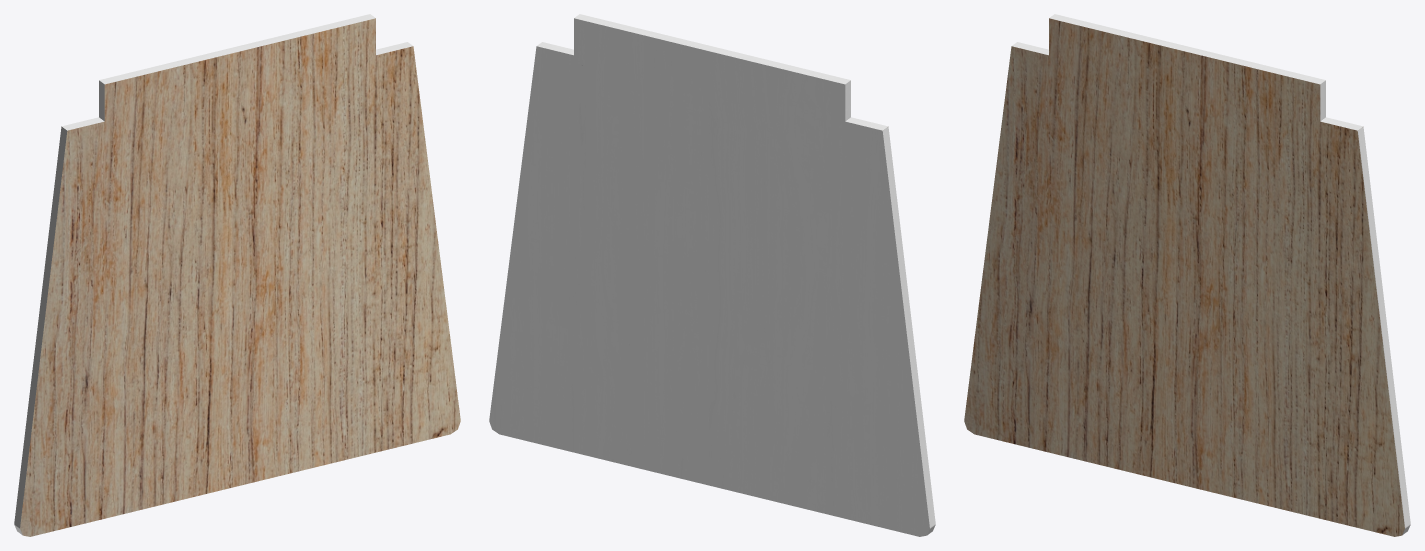
The model's file is ikea_stefan_bottom.obj.
3 renders of one model, left to right at view 1: azimuth 30°, elevation 25°; view 2: azimuth 150°, elevation 25°; view 3: azimuth 330°, elevation 25°, orthographic.
Visible parts, largest first — view 1: Ikea_Stefan_Bottom; view 2: Ikea_Stefan_Bottom; view 3: Ikea_Stefan_Bottom.
Part boxes in pixels (x1,y1,x2,y2): Ikea_Stefan_Bottom: (14,14,460,536); Ikea_Stefan_Bottom: (489,14,935,536); Ikea_Stefan_Bottom: (964,14,1410,536).
Bounding box in the file's own units: 0.4354 × 0.41 × 0.01.
1 material, 1 textured.
